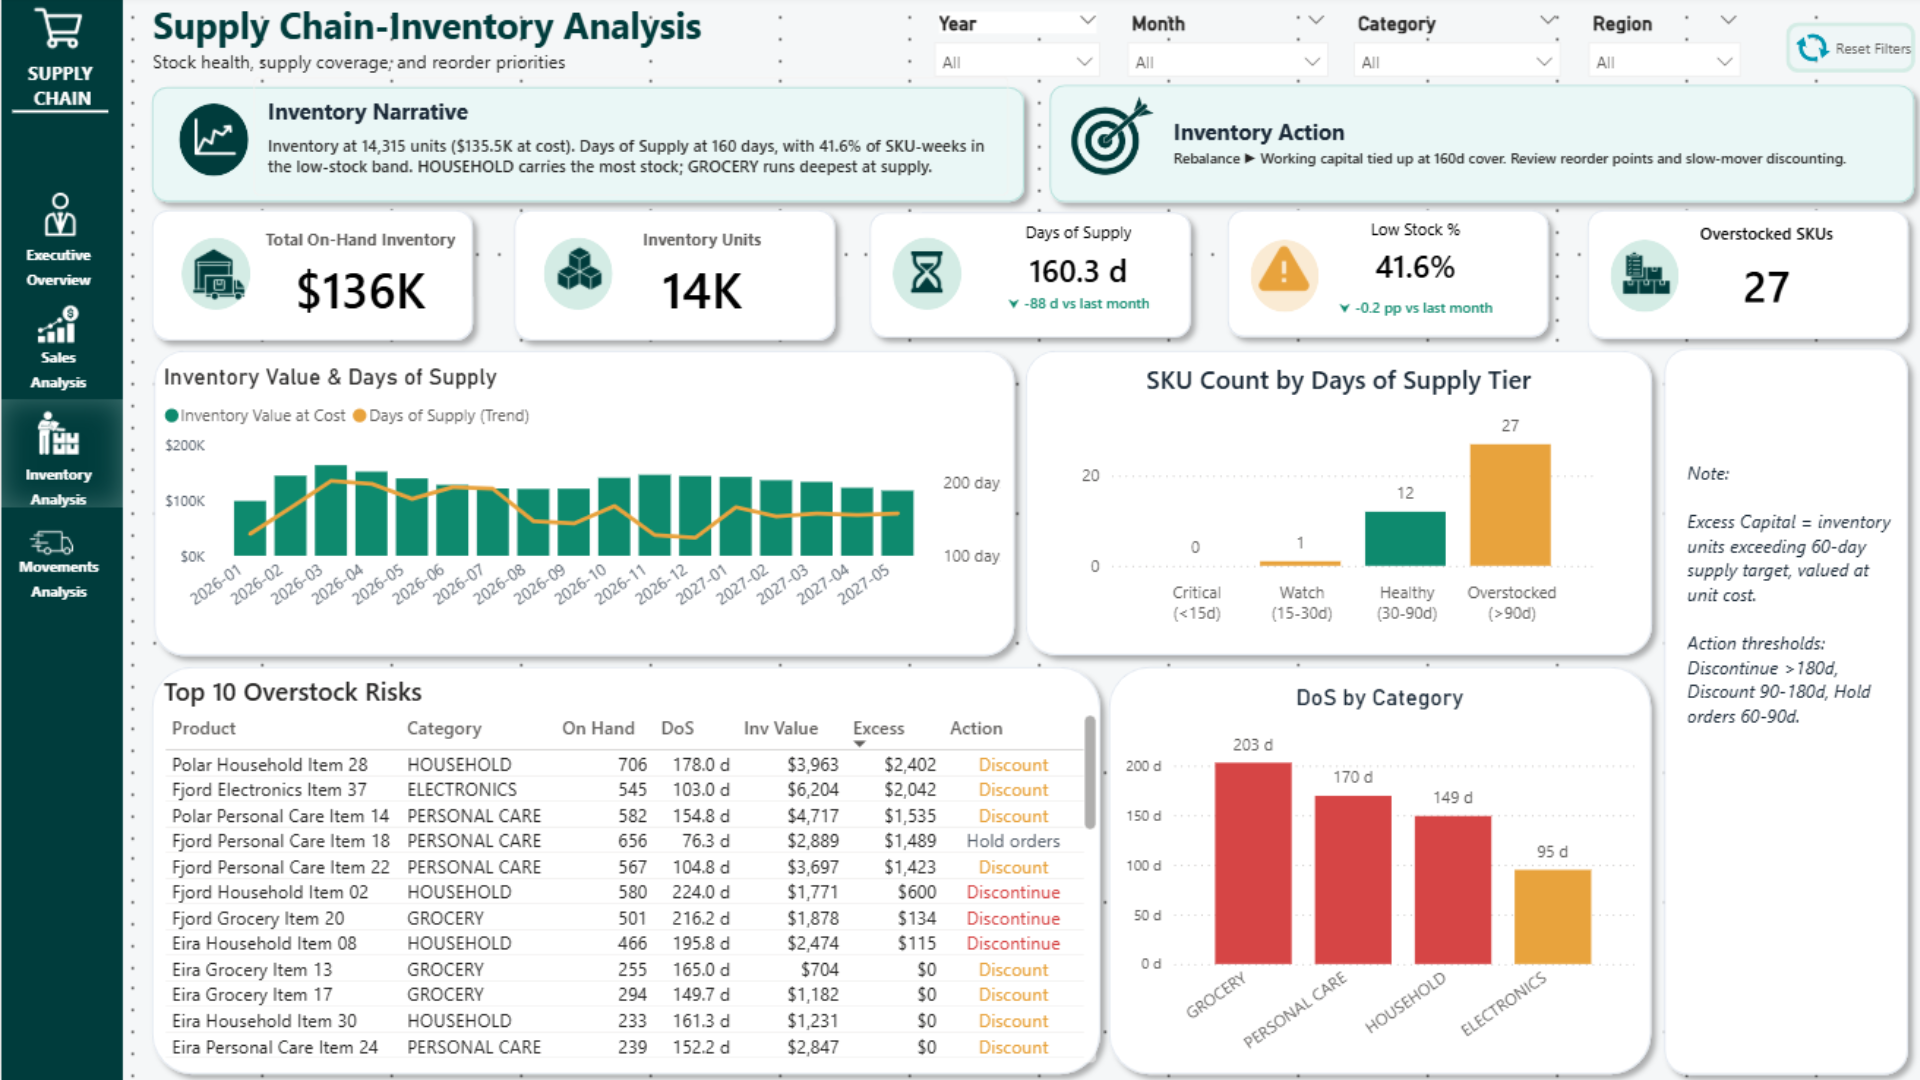

This screenshot's page, from the dashboard's own definition file:
{"tool":"powerbi","page":{"name":"Inventory Analysis","canvas":[1440,810],"ordinal":2},"visuals":[{"type":"textbox","box":[107.5,0,573.8,87.5],"z":0},{"type":"shape","box":[0,0,90,810.3],"z":1000},{"type":"slicer","fields":{"Values":["dim_date.Year"]},"box":[681.2,8.8,142.8,75],"z":1000,"group":"g1"},{"type":"group","id":"g1","title":"Group 1","box":[681.2,8.8,617.5,75],"z":2000},{"type":"slicer","fields":{"Values":["dim_date.Date.Variation.Date Hierarchy.Month"]},"box":[824,8.8,168.8,75],"z":2000,"group":"g1"},{"type":"slicer","fields":{"Values":["dim_location.Region"]},"box":[1165.7,9.1,132.7,75.3],"z":3000,"group":"g1"},{"type":"textbox","box":[12.5,43.8,61.2,56.2],"z":3000},{"type":"image","box":[25,5,35,41.2],"z":4000},{"type":"slicer","fields":{"Values":["dim_product.Category"]},"box":[992.5,9.1,173.1,75.3],"z":4000,"group":"g1"},{"type":"actionButton","box":[1323.3,21.7,95.8,37.5],"z":5000},{"type":"image","box":[28,130.5,32,67],"z":6000,"group":"g5"},{"type":"shape","box":[103,151,255.9,114.5],"z":6000,"group":"g4"},{"type":"shape","box":[103.3,255,655.8,244.2],"z":6000},{"type":"shape","box":[1223.8,253.8,198.8,556.2],"z":7000},{"type":"textbox","box":[4,177.5,78,46],"z":8000,"group":"g5"},{"type":"shape","box":[750,255,482.5,243.8],"z":8000},{"type":"shape","box":[103,490,721,320],"z":9000},{"type":"shape","box":[8.9,66.7,71.1,41.1],"z":10000},{"type":"image","box":[26,289.5,32,72],"z":10000,"group":"g5"},{"type":"group","id":"g2","title":"Group 4","box":[0,130.5,85,335],"z":11000},{"type":"shape","box":[102.5,60.6,664.7,103],"z":12000,"group":"g3"},{"type":"shape","box":[132.5,85,51.2,52.5],"z":12000},{"type":"textbox","box":[4,254.5,78,57],"z":12000,"group":"g5"},{"type":"group","id":"g3","title":"Group 2","box":[102.5,58.8,1325,105],"z":13000},{"type":"shape","box":[371.4,151,255.9,114.5],"z":13000,"group":"g4"},{"type":"shape","box":[132.5,81.2,51.2,53.8],"z":14000},{"type":"shape","box":[900.7,151,255.9,112.1],"z":14000,"group":"g4"},{"type":"image","box":[26,200.5,32,89],"z":14000,"group":"g5"},{"type":"image","box":[1330,1.7,25.8,77.5],"z":15000},{"type":"shape","box":[768.5,58.8,659,105],"z":15000,"group":"g3"},{"type":"shape","box":[1166.5,151,255.9,113.3],"z":15000,"group":"g4"},{"type":"image","box":[755,63.8,137.5,88.8],"z":16000},{"type":"shape","box":[634.8,152.2,255.9,110.8],"z":16000,"group":"g4"},{"type":"textbox","box":[4,340.5,78,56],"z":16000,"group":"g5"},{"type":"image","box":[142.7,66.4,30.9,79.1],"z":17000},{"type":"cardVisual","fields":{"Data":["_Measures.Inventory Action"]},"box":[850.8,66.7,564.2,88],"z":17000,"group":"g3"},{"type":"group","id":"g4","title":"Group 3","box":[103,151,1320,115],"z":18000},{"type":"image","box":[22,362.5,32,88],"z":18000,"group":"g5"},{"type":"shape","box":[134.1,181.2,51.2,53.8],"z":19000},{"type":"cardVisual","title":"Total Sales","fields":{"Data":["_Measures.Days of Supply (Snapshot)"]},"box":[720,154.2,155.6,109.1],"z":20000},{"type":"textbox","box":[0,409.5,85,56],"z":20000,"group":"g2"},{"type":"shape","box":[402.3,180.1,51.2,53.8],"z":21000},{"type":"cardVisual","title":"Total Sales","fields":{"Data":["_Measures.Low Stock %"]},"box":[962.9,155.6,170.2,104.7],"z":22000},{"type":"cardVisual","title":"Total Sales","fields":{"Data":["_Measures.Current Inventory"]},"box":[434.9,155.6,170.2,104.7],"z":23000},{"type":"shape","box":[661.2,181.1,51.2,53.8],"z":24000},{"type":"shape","box":[1192.7,181.8,50.9,53.8],"z":25000},{"type":"shape","box":[925.1,181.8,50.9,53.8],"z":26000},{"type":"image","box":[928,186.2,46.5,37.8],"z":27000},{"type":"image","box":[141.5,140.4,39,136],"z":28000},{"type":"cardVisual","title":"Total Sales","fields":{"Data":["_Measures.Inventory Value at Cost"]},"box":[174.1,156.4,184.4,104.8],"z":29000},{"type":"cardVisual","fields":{"Data":["_Measures.Inventory Narrative"]},"box":[185.1,60.7,562.6,89.9],"z":30000},{"type":"image","box":[412.4,168.3,34.6,72.4],"z":31000},{"type":"image","box":[671,182.8,31.2,47.9],"z":32000},{"type":"cardVisual","title":"Overstocked SKUs","fields":{"Data":["_Measures.SKU Count - Overstocked (>90d)"]},"box":[1223.8,168.8,170,72.5],"z":33000},{"type":"lineStackedColumnComboChart","title":" Inventory Value & Days of Supply","fields":{"Category":["dim_date.Year-Month"],"Y":["_Measures.Inventory Value at Cost"],"Y2":["_Measures.Days of Supply (Trend)"]},"box":[120,273.6,620,191.8],"z":34000},{"type":"clusteredColumnChart","title":"SKU Count by Days of Supply Tier","fields":{"Category":["Stock Tier Categories.Tier"],"Y":["_Measures.SKU Count by Tier (Show All)"]},"box":[796.2,273.8,391.2,201.2],"z":35000},{"type":"tableEx","title":"Top 10 Overstock Risks","fields":{"Values":["dim_product.ProductName","dim_product.Category","_Measures.Current Inventory","_Measures.Days of Supply (Snapshot)","_Measures.Inventory Value at Cost","_Measures.Excess Capital Tied Up","_Measures.Overstock Action"]},"box":[121,504,691,288],"z":36000},{"type":"image","box":[1201.4,186.4,37.1,40],"z":37000},{"type":"textbox","box":[1244,340,161,411],"z":38000},{"type":"shape","box":[812.5,490,420,320],"z":39000},{"type":"columnChart","title":"DoS by Category","fields":{"Category":["dim_product.Category"],"Y":["_Measures.Days of Supply (Snapshot)"]},"box":[832.5,511.2,377.5,288.8],"z":40000},{"type":"group","id":"g5","title":"Group 5","box":[4,130.5,78,320],"z":40001,"group":"g2"},{"type":"actionButton","box":[0,301,90,79],"z":40001},{"type":"actionButton","box":[0,144,90,79],"z":40002},{"type":"actionButton","box":[0,222,90,79],"z":40003},{"type":"actionButton","box":[0,379,90,79],"z":40004}]}

Visuals, with their boxes on the page's 1440x810 design canvas (x1, y1, x2, y2). These are canvas units, not pixel positions in the 1920x1080 screenshot, which may show the page scaled, cropped or inside an application window:
textbox: locate(108, 0, 681, 88)
shape: locate(0, 0, 90, 810)
slicer - dim_date.Year: locate(681, 9, 824, 84)
"Group 1" group: locate(681, 9, 1299, 84)
slicer - dim_date.Date.Variation.Date Hierarchy.Month: locate(824, 9, 993, 84)
slicer - dim_location.Region: locate(1166, 9, 1298, 84)
textbox: locate(12, 44, 74, 100)
image: locate(25, 5, 60, 46)
slicer - dim_product.Category: locate(992, 9, 1166, 84)
actionButton: locate(1323, 22, 1419, 59)
image: locate(28, 130, 60, 198)
shape: locate(103, 151, 359, 266)
shape: locate(103, 255, 759, 499)
shape: locate(1224, 254, 1423, 810)
textbox: locate(4, 178, 82, 224)
shape: locate(750, 255, 1232, 499)
shape: locate(103, 490, 824, 810)
shape: locate(9, 67, 80, 108)
image: locate(26, 290, 58, 362)
"Group 4" group: locate(0, 130, 85, 466)
shape: locate(102, 61, 767, 164)
shape: locate(132, 85, 184, 138)
textbox: locate(4, 254, 82, 312)
"Group 2" group: locate(102, 59, 1428, 164)
shape: locate(371, 151, 627, 266)
shape: locate(132, 81, 184, 135)
shape: locate(901, 151, 1157, 263)
image: locate(26, 200, 58, 290)
image: locate(1330, 2, 1356, 79)
shape: locate(768, 59, 1428, 164)
shape: locate(1166, 151, 1422, 264)
image: locate(755, 64, 892, 153)
shape: locate(635, 152, 891, 263)
textbox: locate(4, 340, 82, 396)
image: locate(143, 66, 174, 146)
cardVisual - _Measures.Inventory Action: locate(851, 67, 1415, 155)
"Group 3" group: locate(103, 151, 1423, 266)
image: locate(22, 362, 54, 450)
shape: locate(134, 181, 185, 235)
"Total Sales" cardVisual: locate(720, 154, 876, 263)
textbox: locate(0, 410, 85, 466)
shape: locate(402, 180, 454, 234)
"Total Sales" cardVisual: locate(963, 156, 1133, 260)
"Total Sales" cardVisual: locate(435, 156, 605, 260)
shape: locate(661, 181, 712, 235)
shape: locate(1193, 182, 1244, 236)
shape: locate(925, 182, 976, 236)
image: locate(928, 186, 974, 224)
image: locate(142, 140, 180, 276)
"Total Sales" cardVisual: locate(174, 156, 358, 261)
cardVisual - _Measures.Inventory Narrative: locate(185, 61, 748, 151)
image: locate(412, 168, 447, 241)
image: locate(671, 183, 702, 231)
"Overstocked SKUs" cardVisual: locate(1224, 169, 1394, 241)
" Inventory Value & Days of Supply" lineStackedColumnComboChart: locate(120, 274, 740, 465)
"SKU Count by Days of Supply Tier" clusteredColumnChart: locate(796, 274, 1187, 475)
"Top 10 Overstock Risks" tableEx: locate(121, 504, 812, 792)
image: locate(1201, 186, 1238, 226)
textbox: locate(1244, 340, 1405, 751)
shape: locate(812, 490, 1232, 810)
"DoS by Category" columnChart: locate(832, 511, 1210, 800)
"Group 5" group: locate(4, 130, 82, 450)
actionButton: locate(0, 301, 90, 380)
actionButton: locate(0, 144, 90, 223)
actionButton: locate(0, 222, 90, 301)
actionButton: locate(0, 379, 90, 458)
